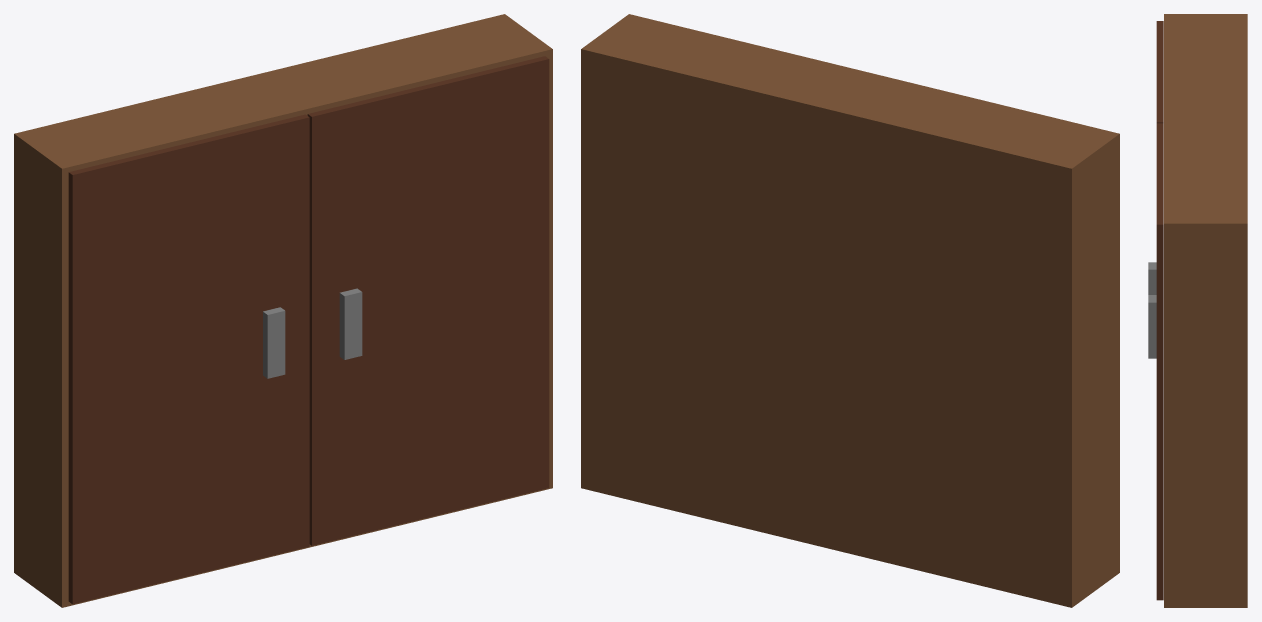
Rendered from Cigarette Case #1 Closed.fbx.
The picture shows the model from 3 angles, left to right: view 1: azimuth 30°, elevation 25°; view 2: azimuth 150°, elevation 25°; view 3: azimuth 270°, elevation 25°; orthographic projection. The views are drawn at different scales.
Visible parts, largest first — view 1: Cigarette Case #1 Closed; view 2: Cigarette Case #1 Closed; view 3: Cigarette Case #1 Closed.
Boxes of the visible parts, x1,y1,x2,y2 form: Cigarette Case #1 Closed: [14, 14, 552, 607]; Cigarette Case #1 Closed: [581, 14, 1119, 607]; Cigarette Case #1 Closed: [1148, 14, 1247, 607].
Bounding box in the file's own units: 142 × 121 × 28.43.
Materials: 1 (1 with a texture image).
